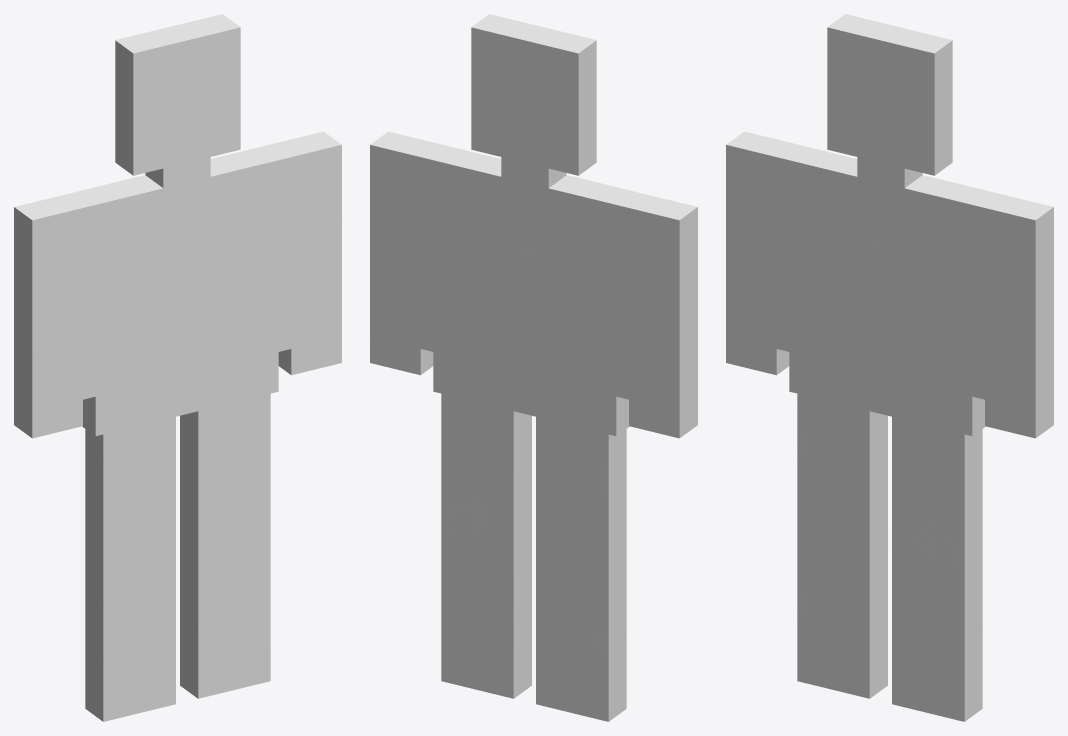
File: figure.gltf
3 views of the same model, side by side, from view 1: azimuth 30°, elevation 25°; view 2: azimuth 150°, elevation 25°; view 3: azimuth 330°, elevation 25° (orthographic).
Visible parts, largest first — view 1: jx_figure; view 2: jx_figure; view 3: jx_figure.
Boxes of the visible parts, <box> form: jx_figure: <box>14,14,341,721</box>; jx_figure: <box>370,14,697,721</box>; jx_figure: <box>726,14,1053,721</box>.
Bounding box in the file's own units: 0.49 × 1 × 0.05.
Materials: 1 (1 with a texture image).
